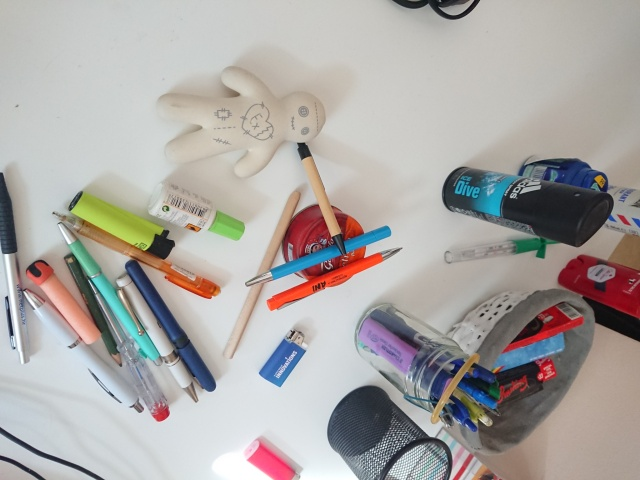Gavrilovic Pork Liver Pate 100g: (280, 202, 368, 289)
